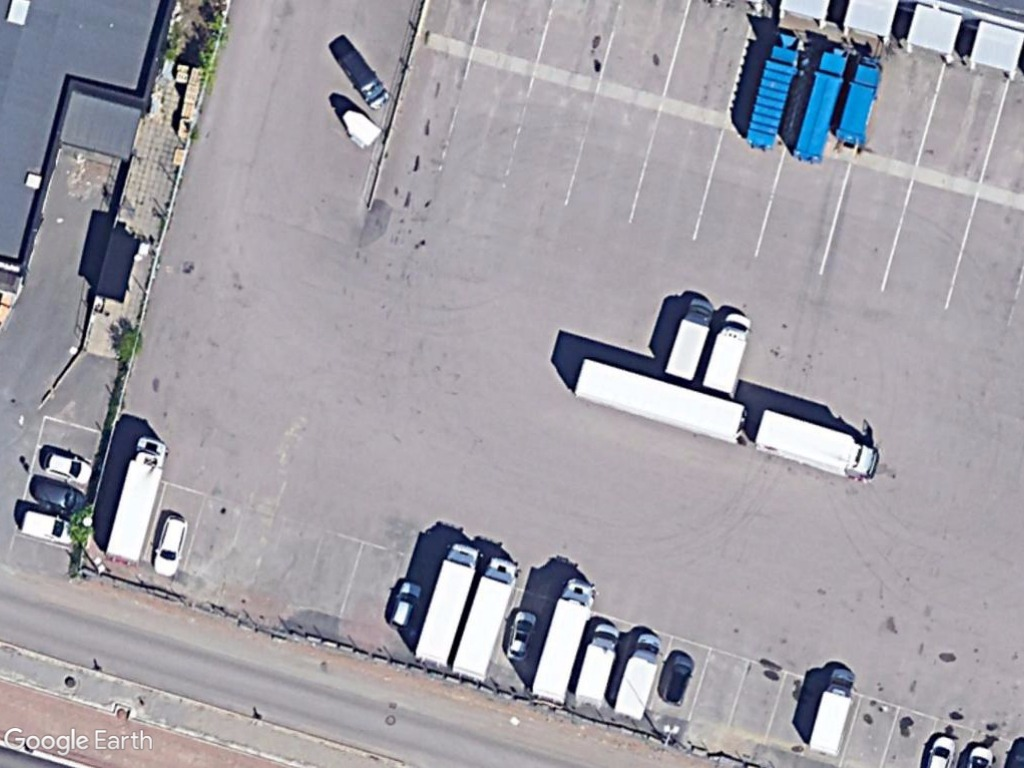car: (28, 469, 91, 518), (150, 512, 192, 583), (499, 601, 542, 664), (656, 650, 699, 709), (40, 445, 97, 487), (384, 576, 425, 634)
truck: (526, 570, 603, 712), (750, 402, 886, 482), (104, 426, 179, 567), (410, 535, 486, 673), (447, 553, 524, 683), (783, 41, 854, 170), (831, 47, 896, 151), (803, 663, 860, 760)
van: (566, 618, 625, 716), (656, 293, 718, 384), (698, 303, 758, 396), (609, 629, 668, 723), (334, 44, 392, 113), (15, 502, 78, 553)
